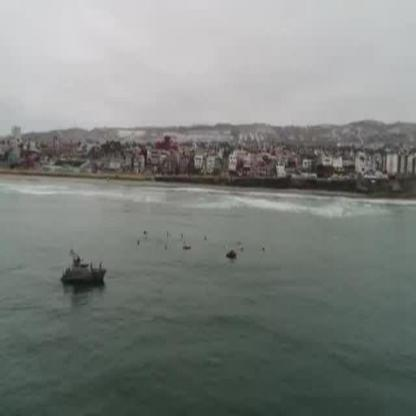Boat: (59, 246, 107, 292)
